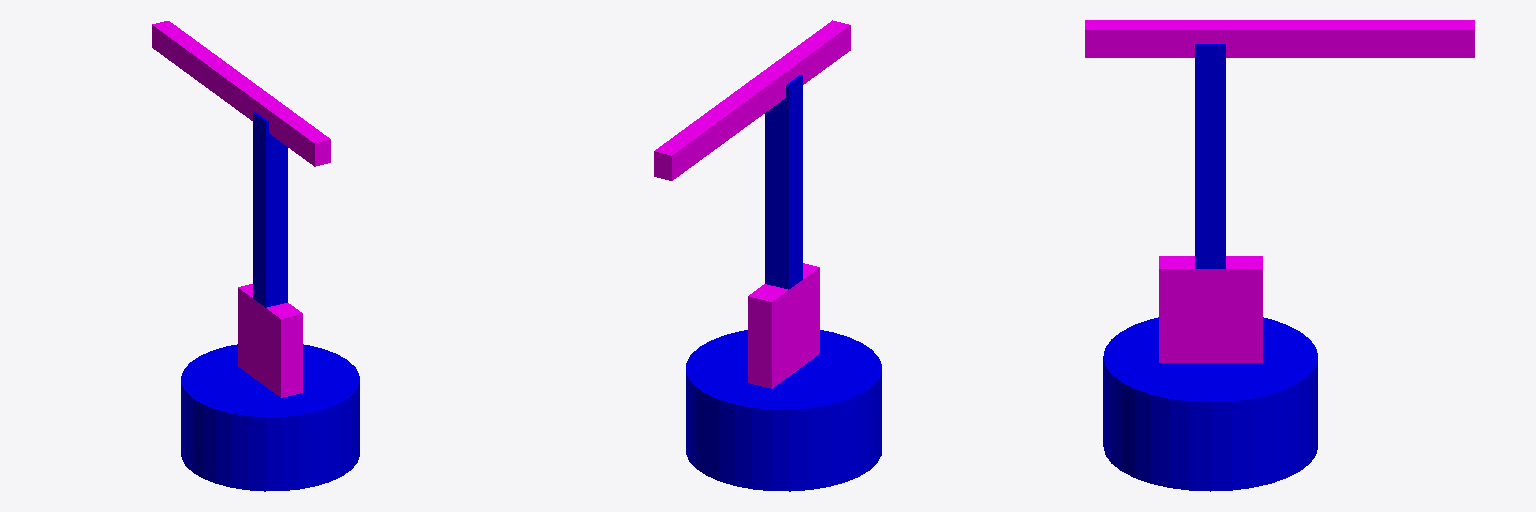
robot.urdf — ebamk1:
<?xml version="1.0"?>
<robot name="ebamk1">
  <link name="base_link">
    <visual>
      <origin xyz="0 0 0.016" rpy="0 0 0" />
      <geometry>
        <cylinder length="0.032" radius="0.035"/>
      </geometry>
      <material name="blue"/>
    </visual>
  </link>

  <joint name="joint_1" type="revolute">
    <origin xyz="0 0 0.049" rpy="0 0 0" />
    <parent link="base_link" />
    <child link="link_1" />
    <axis xyz="0 0 1" />
    <limit
      effort="0"
      velocity="0"
      lower="-0.7854" upper="0.7854"/>
      <!--   [-45,45]-->
  </joint>

  <link name="link_1">
    <visual>
      <origin xyz="0 0 0" rpy="0 0 0" />
      <geometry>
        <box size="0.01 0.034 0.034" />
      </geometry>
      <material name="red" />
    </visual>
  </link>

  <joint name="joint_2" type="revolute">
    <origin xyz="0 0 0.017" rpy="0 0 0" />
    <parent link="link_1" />
    <child link="link_2" />
    <axis xyz="1 0 0" />
    <limit
      effort="0"
      velocity="0"
      lower="-0.6109" upper="0.9599"/>
      <!--   [-35,55]-->
  </joint>

  <link name="link_2">
    <visual>
      <origin xyz="0 0 0.04" rpy="0 0 0" />
      <geometry>
        <box size="0.01 0.01 0.08" />
      </geometry>
      <material name="blue" />
    </visual>
  </link>

  <joint name="joint_3" type="revolute">
    <origin xyz="0 0 0.08" rpy="0 0 0" />
    <parent link="link_2" />
    <child link="link_3" />
    <axis xyz="1 0 0" />
    <limit
      effort="0"
      velocity="0"
      lower="-1.2217" upper="0.3491"/>
      <!--   [-70,20]-->
  </joint>

  <link name="link_3">
    <visual>
      <origin
        xyz="0 0.0225 0"
        rpy="0 0 0" />
      <geometry>
        <box size="0.0075 0.127 0.01" />
      </geometry>
      <material name="red" />
    </visual>
  </link>

  <material name="red">
    <color rgba="1 0 1 1"/>
  </material>

  <material name="blue">
    <color rgba="0 0 1 1"/>
  </material>

</robot>

--- Render facts (derived) ---
The picture shows the robot from 3 angles, left to right: view 1: azimuth 30°, elevation 25°; view 2: azimuth 150°, elevation 25°; view 3: azimuth 270°, elevation 25°; orthographic projection.
Robot: ebamk1 — 4 links, 3 joints (3 revolute); root link base_link; default pose: every joint at zero.
Links seen in each view (by area): view 1: base_link, link_3, link_2, link_1; view 2: base_link, link_3, link_2, link_1; view 3: base_link, link_3, link_1, link_2.
Boxes of the visible links, x1,y1,x2,y2 form: base_link: (181, 344, 359, 491); link_3: (152, 21, 330, 166); link_2: (253, 112, 287, 307); link_1: (238, 284, 302, 397); base_link: (686, 330, 881, 491); link_3: (654, 20, 850, 180); link_2: (765, 75, 802, 289); link_1: (748, 263, 819, 388); base_link: (1103, 317, 1317, 491); link_3: (1085, 20, 1474, 57); link_1: (1159, 256, 1262, 362); link_2: (1195, 44, 1225, 268).
Bounding box of the posed robot: 0.07 × 0.127 × 0.151 m (x, y, z).
Geometry: primitives only (box / cylinder / sphere), no mesh files.
